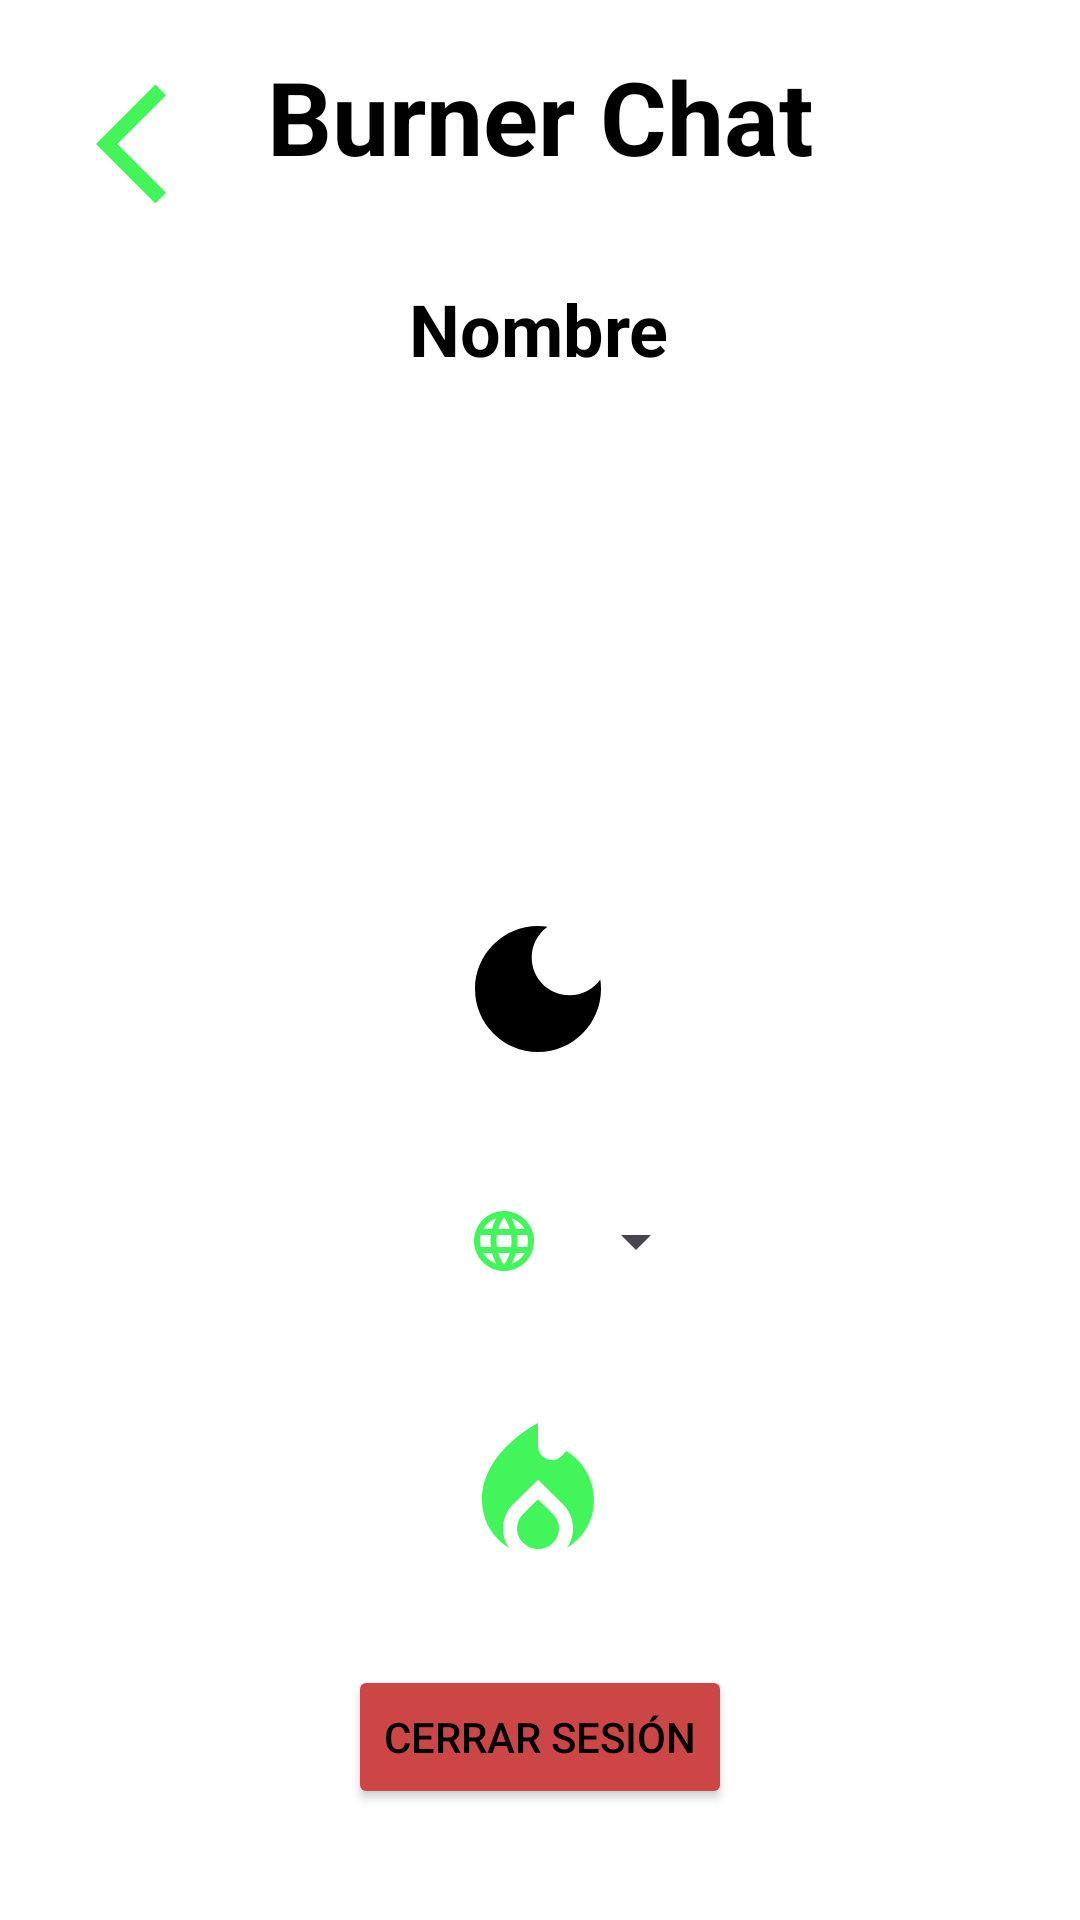

Where to tap for icons on this 1080 x 1920 app screen, as point (x, y):
arrow back: point (131, 144)
Cambiar tema: point (538, 989)
fire: point (538, 1486)
language: point (504, 1241)
